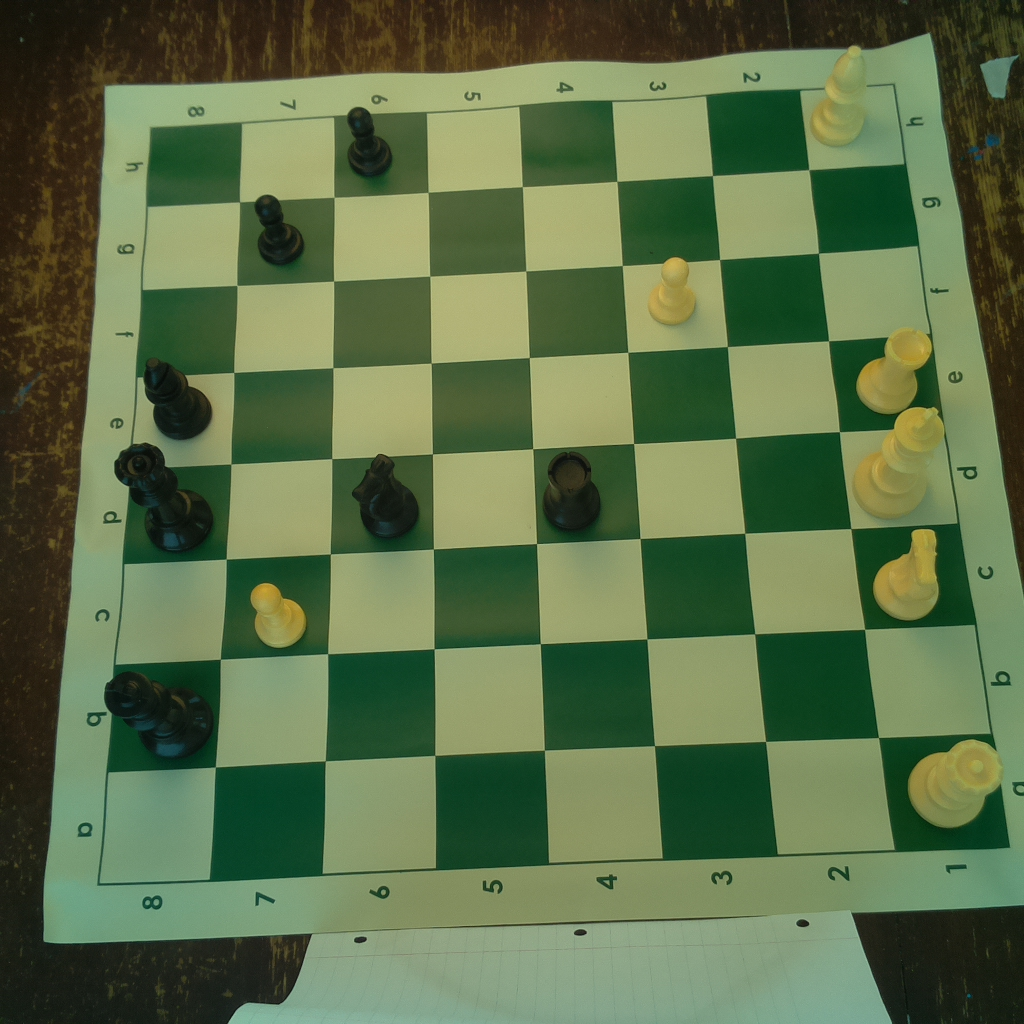black_bishop: (141, 357, 214, 443)
black_king: (101, 667, 216, 764)
black_knight: (349, 448, 421, 540)
black_pawn: (338, 102, 397, 182), (249, 191, 311, 267)
black_queen: (111, 441, 216, 557)
black_rook: (540, 445, 608, 532)
file_a: (101, 736, 1011, 887)
file_b: (106, 625, 993, 774)
file_c: (112, 522, 977, 667)
file_d: (123, 430, 962, 564)
file_e: (132, 334, 944, 466)
file_f: (136, 245, 932, 383)
file_g: (140, 165, 919, 291)
file_h: (145, 87, 905, 208)
outline: (98, 83, 1011, 890)
rank_1: (799, 84, 1011, 854)
rank_2: (707, 90, 897, 856)
rank_3: (612, 96, 780, 856)
rank_4: (520, 99, 666, 860)
rank_5: (428, 104, 549, 873)
rank_6: (318, 112, 438, 873)
rank_7: (211, 117, 334, 882)
rank_8: (98, 121, 245, 888)
white_bishop: (806, 40, 876, 149)
white_king: (847, 396, 949, 525)
white_knight: (868, 522, 947, 622)
white_pawn: (244, 577, 311, 651), (650, 251, 703, 326)
white_queen: (902, 734, 1008, 835)
white_rook: (850, 321, 932, 412)
